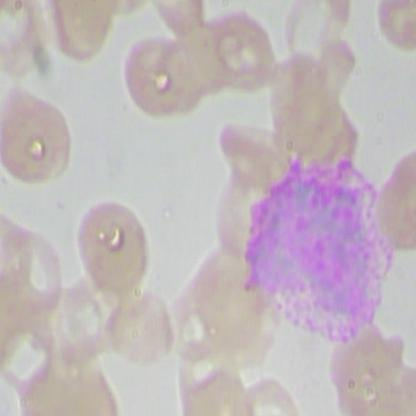RBC: (73, 194, 157, 294), (1, 83, 82, 185), (10, 353, 122, 415), (206, 3, 280, 96), (114, 27, 188, 119), (140, 27, 214, 119), (176, 10, 250, 102), (106, 281, 180, 372), (42, 278, 116, 369), (1, 220, 69, 312), (272, 45, 332, 147), (216, 113, 298, 187), (367, 142, 415, 268), (41, 0, 129, 67), (0, 300, 62, 392), (280, 0, 359, 67), (180, 362, 252, 415), (238, 362, 310, 415), (363, 0, 415, 60)
WBC: (242, 158, 405, 342)
